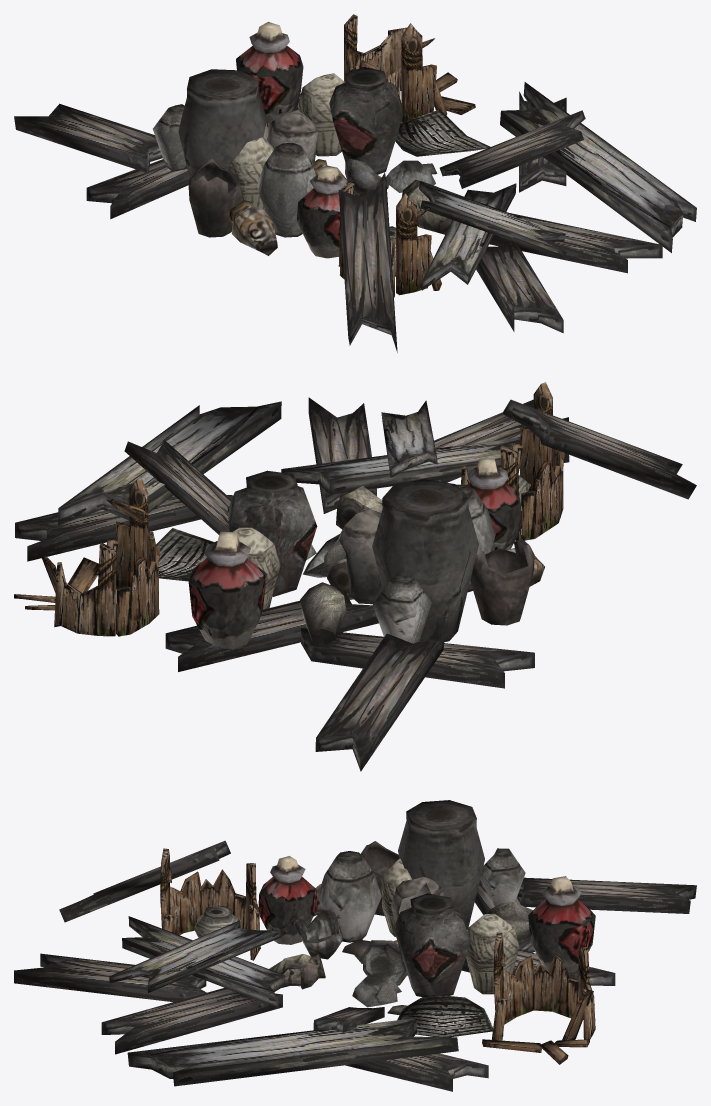
The model's file is PRP_BrokenStuff.FBX.
3 renders of one model, top to bottom at view 1: azimuth 30°, elevation 25°; view 2: azimuth 150°, elevation 25°; view 3: azimuth 270°, elevation 25°, orthographic. The views are drawn at different scales.
Parts seen in each view (by area): view 1: PRP_BrokenStuff; view 2: PRP_BrokenStuff; view 3: PRP_BrokenStuff.
Boxes of the visible parts, <box> form: PRP_BrokenStuff: <box>14,14,696,352</box>; PRP_BrokenStuff: <box>14,382,696,771</box>; PRP_BrokenStuff: <box>14,800,696,1091</box>.
Bounding box in the file's own units: 369 × 98.29 × 498.
